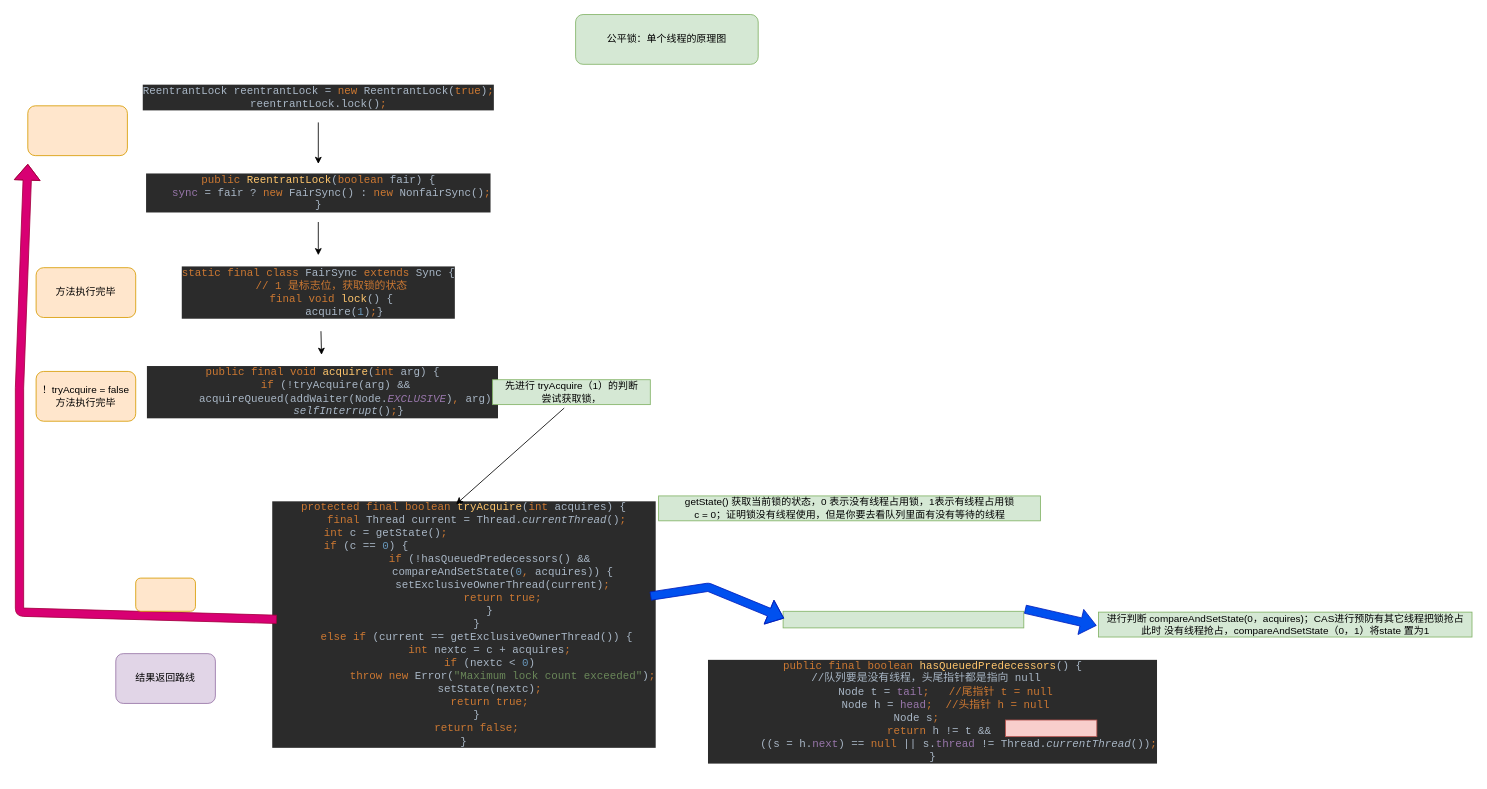
The diagram is 1487 pixels wide and 789 high, and some of its shapes have lost their labels. The box of each missing label's shape, as (x1, y1, x2, y2) in pixels:
h != t 返回 false: (1005, 719, 1097, 737)
lock();执行完毕，执行后面的代码: (27, 105, 127, 156)
return true: (135, 577, 195, 611)
进行判断 ！hasQueuedPredecessors(); = true: (782, 610, 1024, 628)
